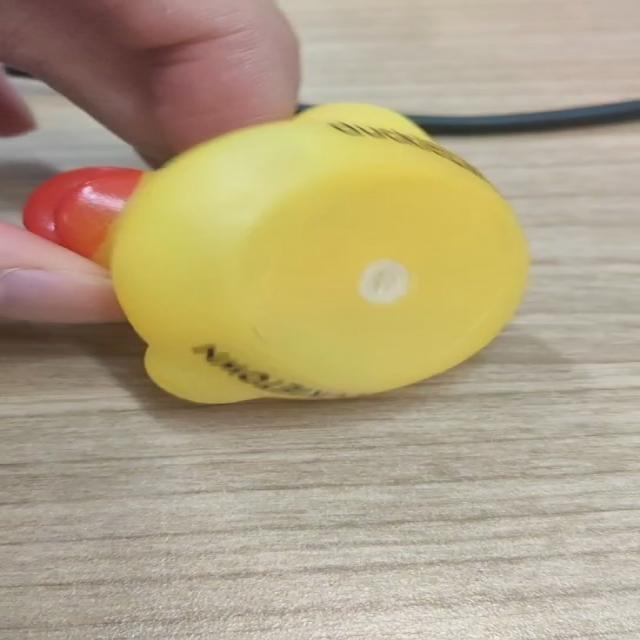rubber-duck: (24, 103, 527, 401)
